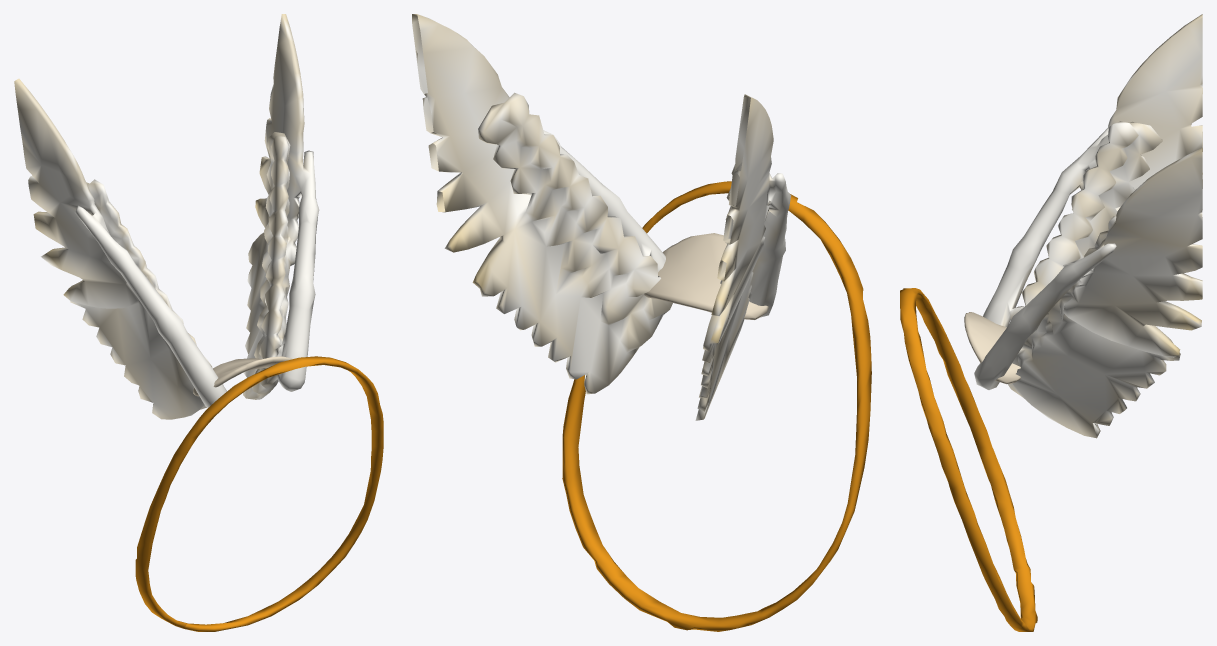
Rendered from canhthienthan.glb.
3 views of the same model, side by side, from view 1: azimuth 30°, elevation 25°; view 2: azimuth 150°, elevation 25°; view 3: azimuth 270°, elevation 25° (orthographic). The views are drawn at different scales.
Parts seen in each view (by area): view 1: Canh_Trai, Canh_Phai, Day_Canh, De_Canh; view 2: Canh_Phai, Day_Canh, Canh_Trai, De_Canh; view 3: Canh_Phai, Canh_Trai, Day_Canh, De_Canh.
Boxes of the visible parts, bbox=[...] form: Canh_Trai: bbox=[14, 78, 227, 419]; Canh_Phai: bbox=[243, 14, 319, 399]; Day_Canh: bbox=[135, 356, 383, 631]; De_Canh: bbox=[193, 356, 292, 396]; Canh_Phai: bbox=[412, 14, 672, 394]; Day_Canh: bbox=[562, 181, 871, 631]; Canh_Trai: bbox=[695, 94, 791, 420]; De_Canh: bbox=[644, 233, 768, 319]; Canh_Phai: bbox=[974, 147, 1202, 438]; Canh_Trai: bbox=[983, 14, 1202, 327]; Day_Canh: bbox=[900, 288, 1037, 631]; De_Canh: bbox=[964, 312, 1020, 384].
Bounding box in the file's own units: 0.2572 × 0.4701 × 0.2396.
